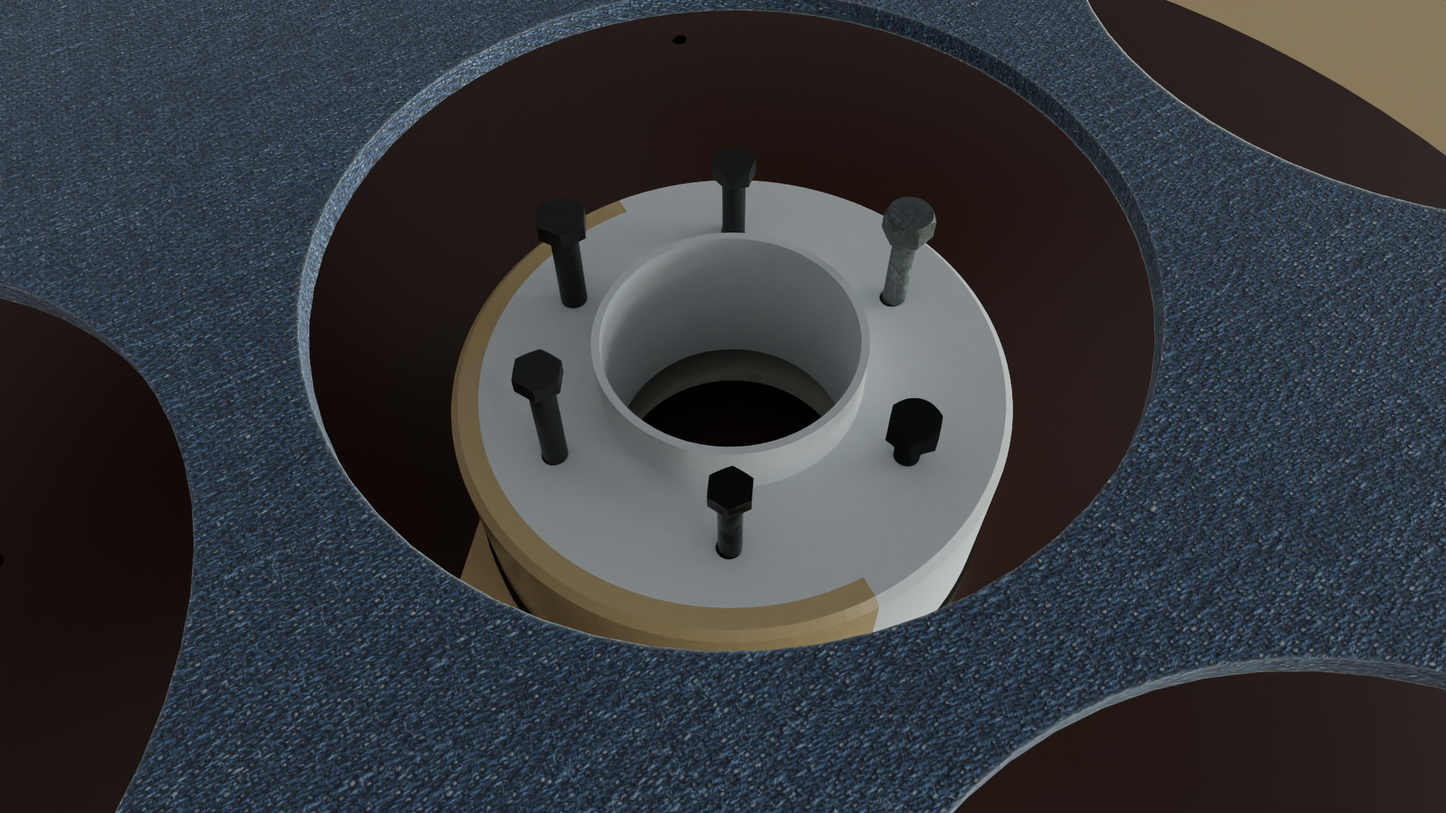bolt: (888, 398, 943, 446), (511, 349, 561, 393), (706, 466, 754, 510), (884, 196, 936, 236), (536, 197, 584, 237), (712, 147, 757, 178)
